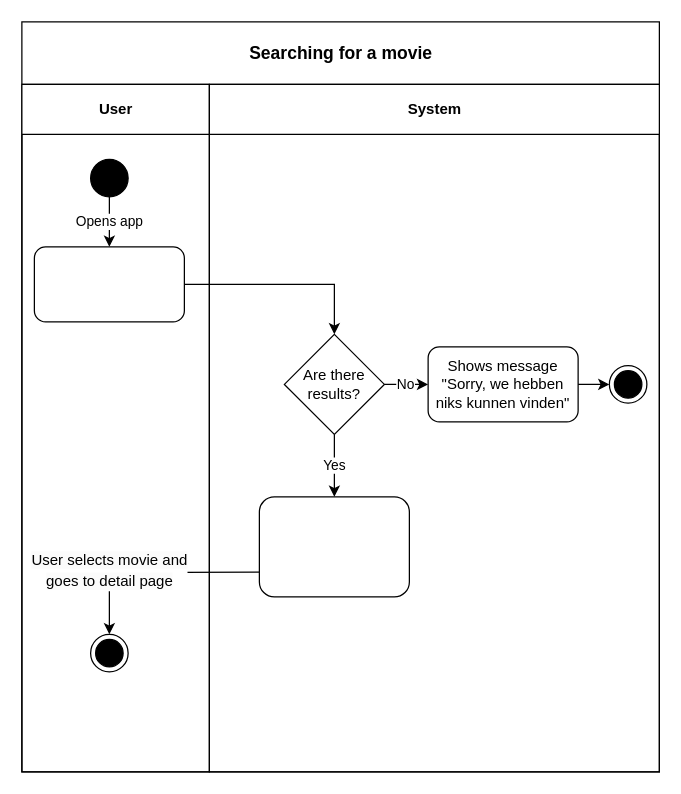
Image size: 681x794. Some labels were removed from this diagram. Each missing label, with the centre of its shape:
"Input text in searchbar" belongs at [108,284].
"Shows a list of movies that fit the search term sorted by popularity" belongs at [333,546].
